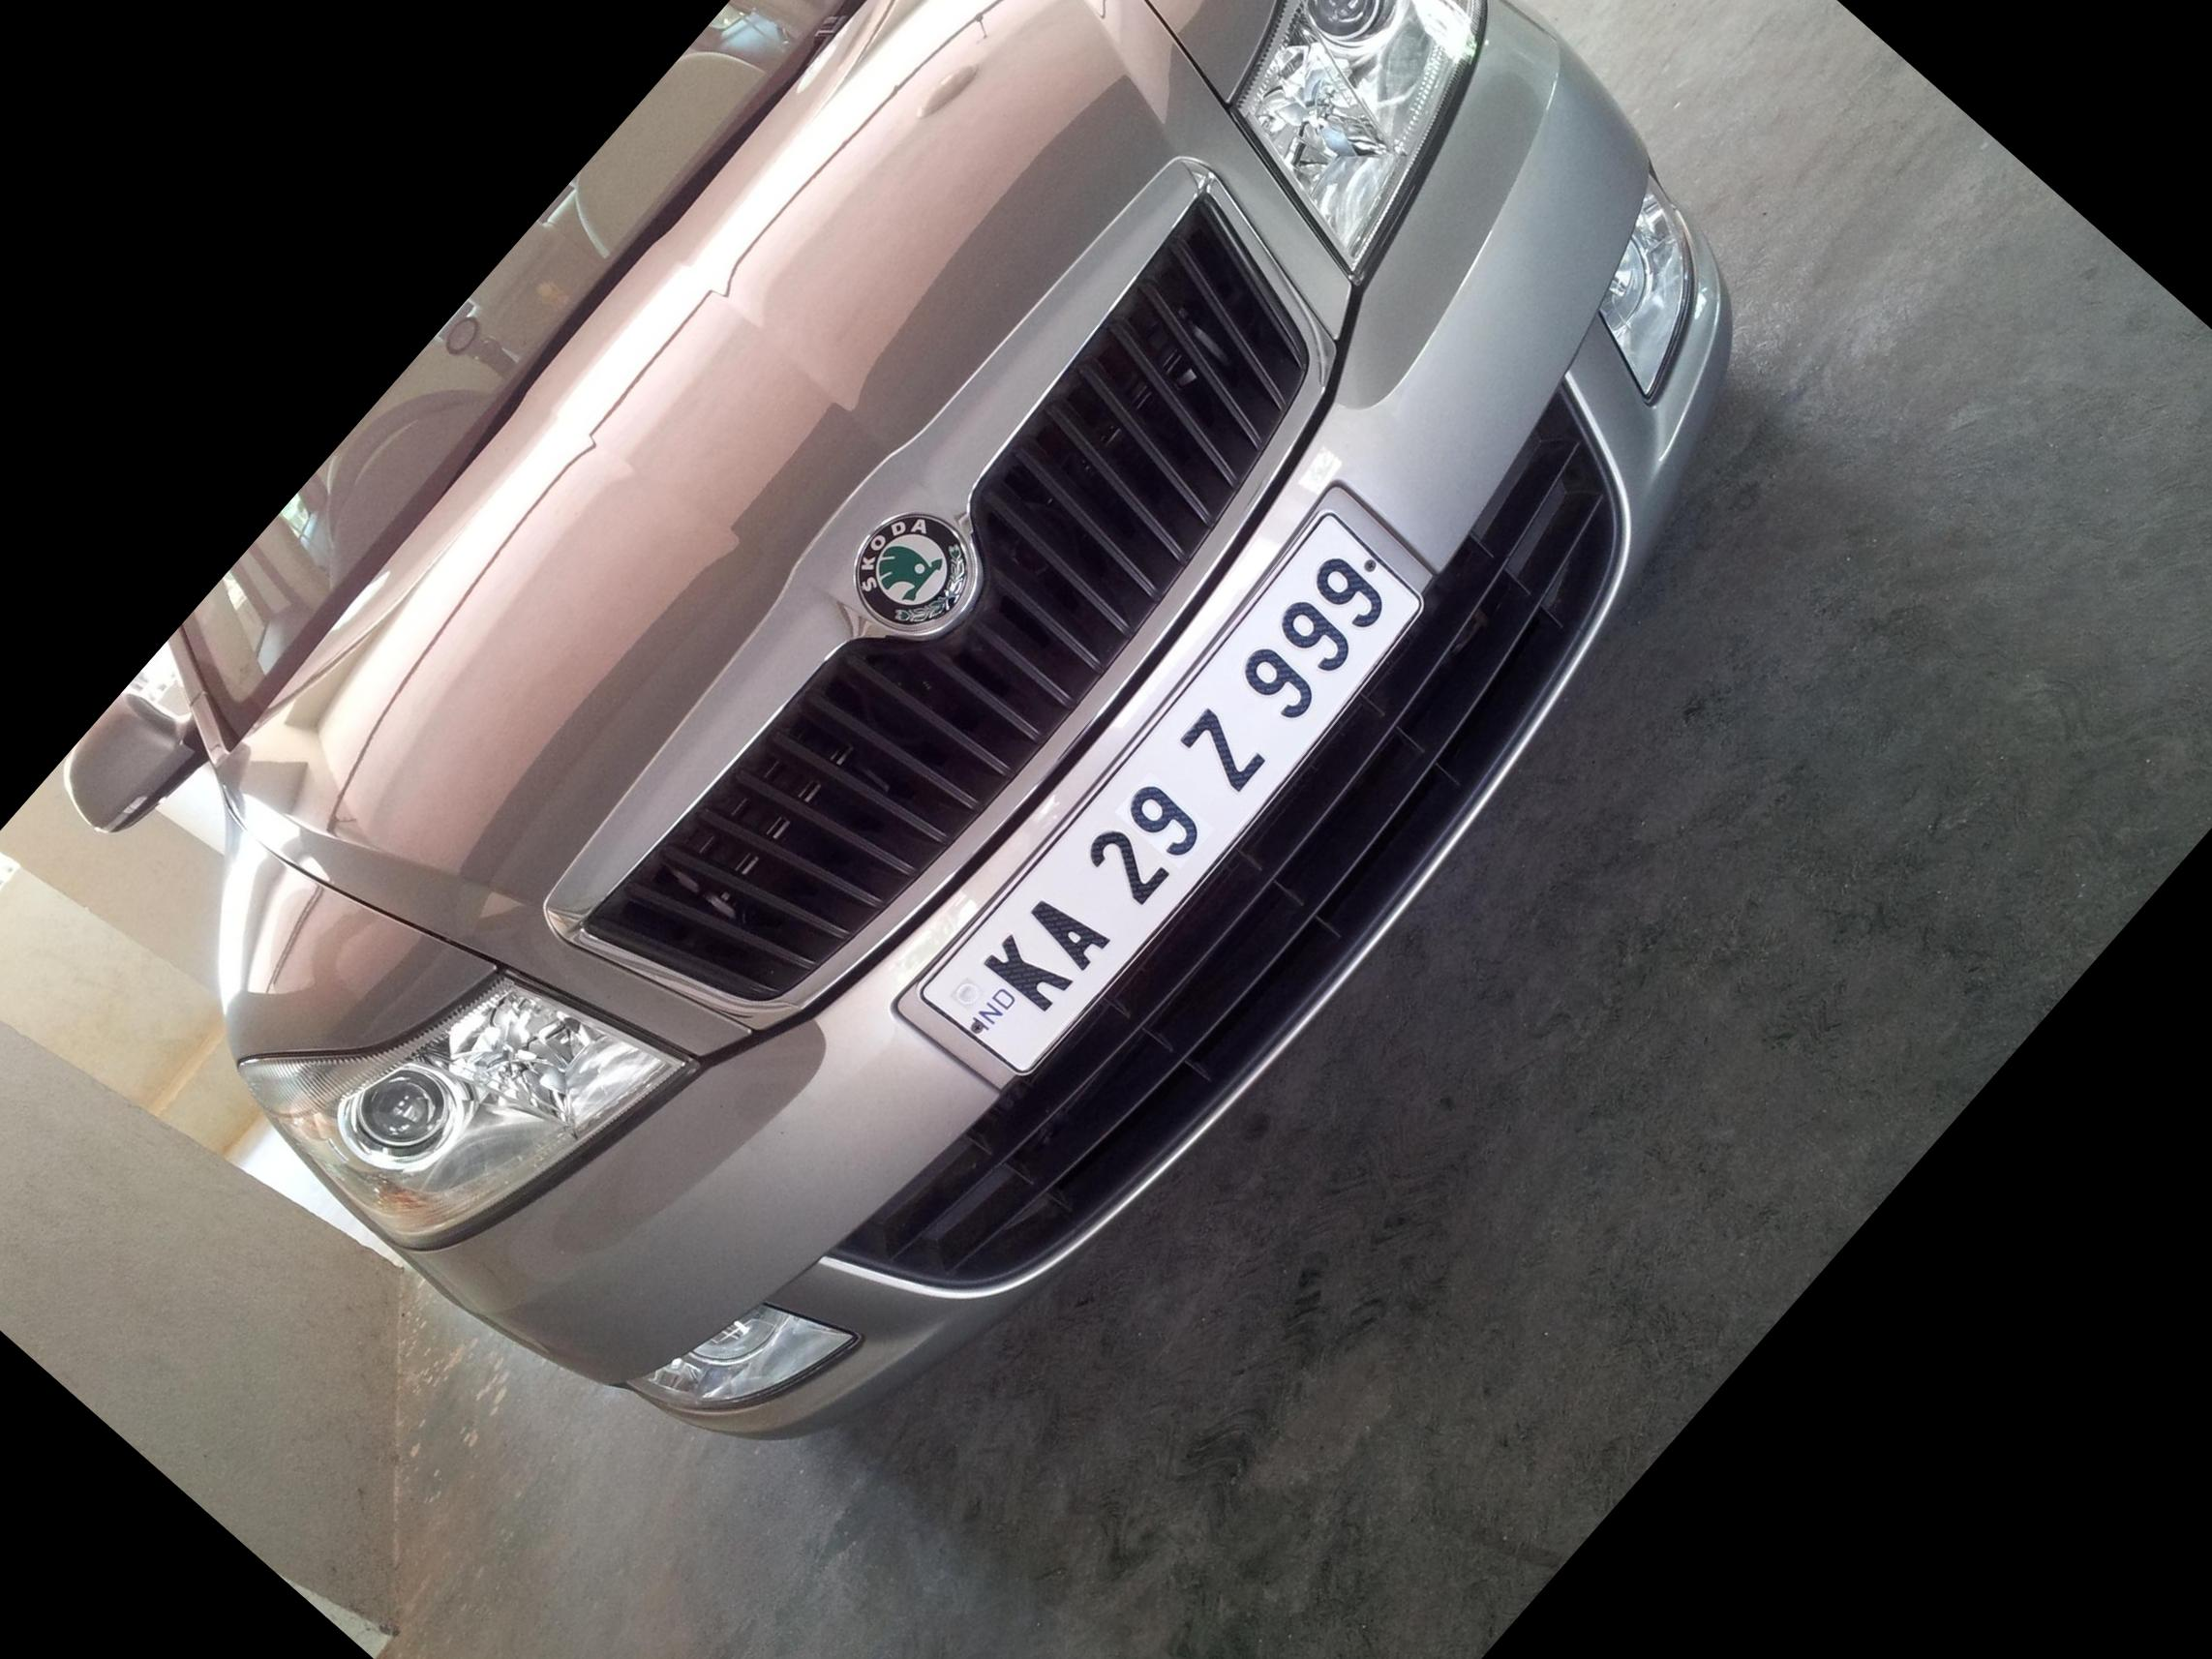plate: (877, 468, 1483, 1124)
